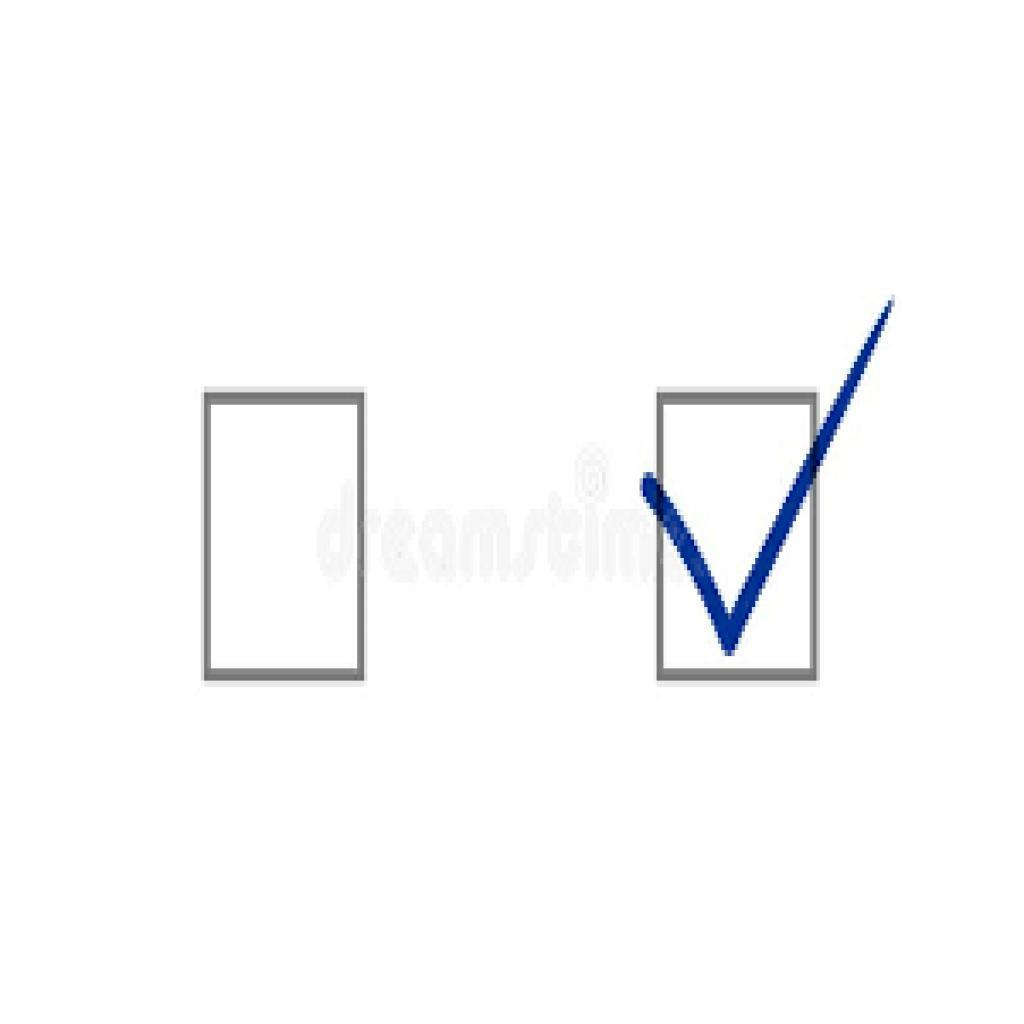checkbox: (204, 391, 366, 681), (655, 397, 818, 679)
